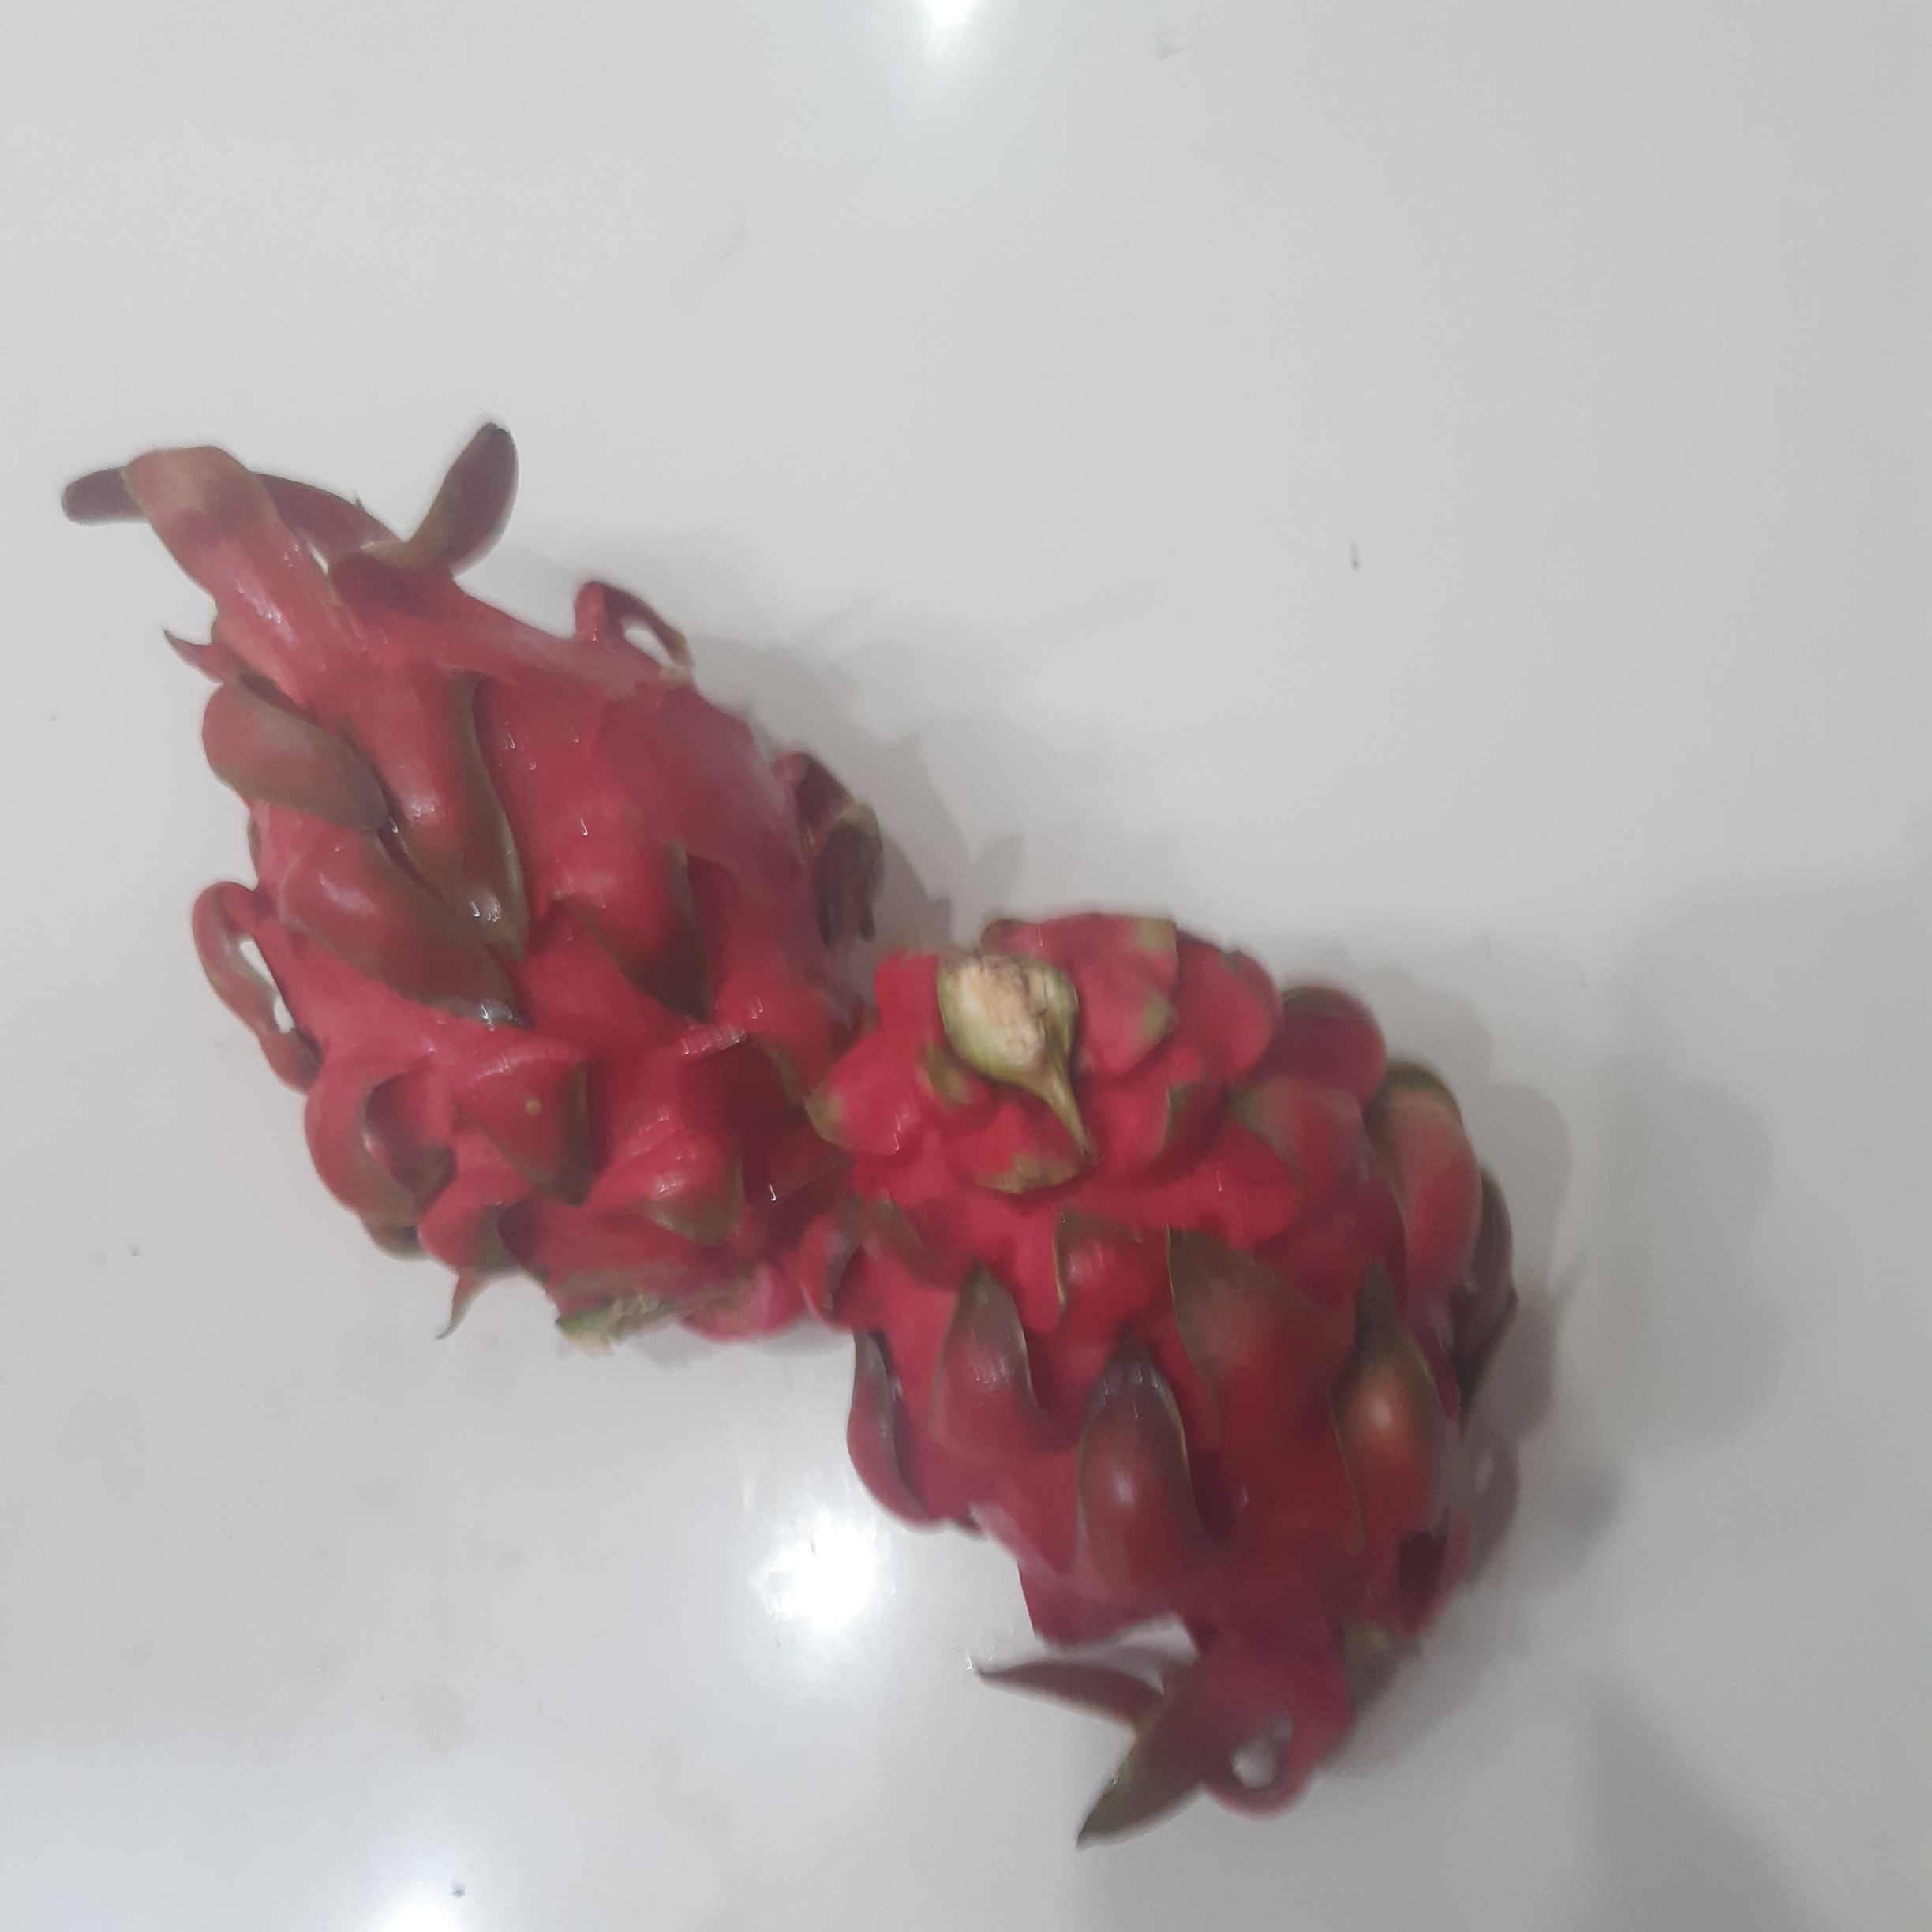Thanh long: (195, 541, 890, 1334), (833, 918, 1520, 1660)
